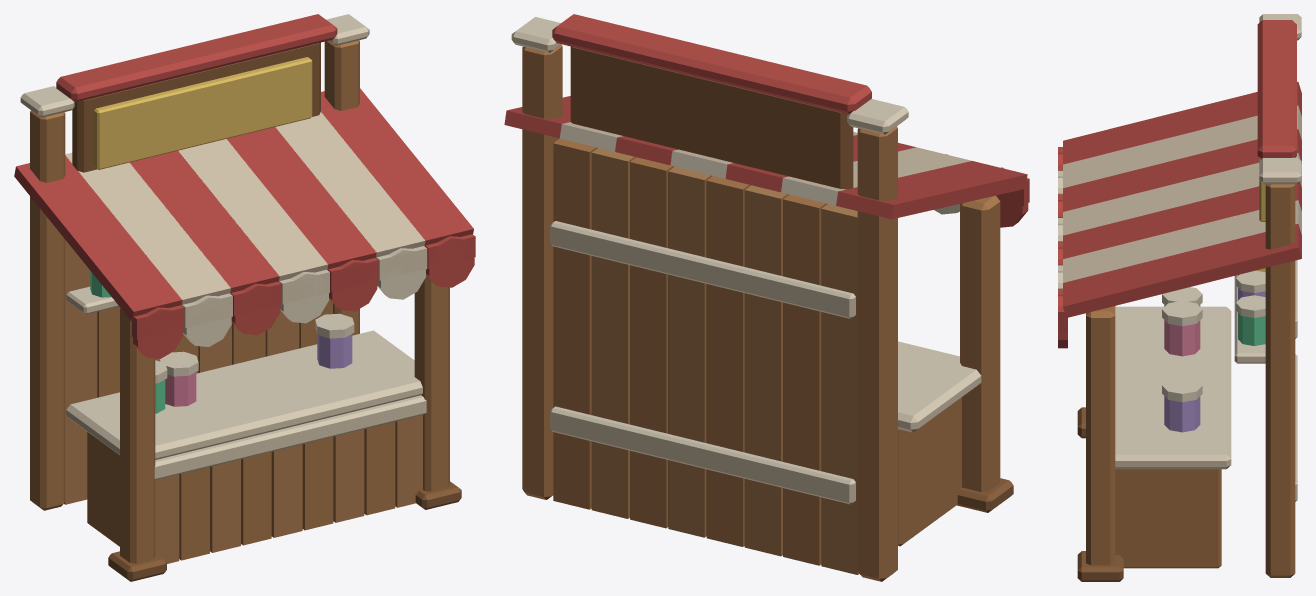
The model's file is ranch_shop_stand.fbx.
3 views of the same model, side by side, from view 1: azimuth 30°, elevation 25°; view 2: azimuth 150°, elevation 25°; view 3: azimuth 270°, elevation 25° (orthographic). The views are drawn at different scales.
Parts seen in each view (by area): view 1: ranch_shop_stand; view 2: ranch_shop_stand; view 3: ranch_shop_stand.
Boxes of the visible parts, x1=… form: ranch_shop_stand: x1=14, y1=14, x2=475, y2=581; ranch_shop_stand: x1=504, y1=14, x2=1029, y2=581; ranch_shop_stand: x1=1058, y1=14, x2=1301, y2=581.
Bounding box in the file's own units: 12.01 × 14.15 × 7.45.
